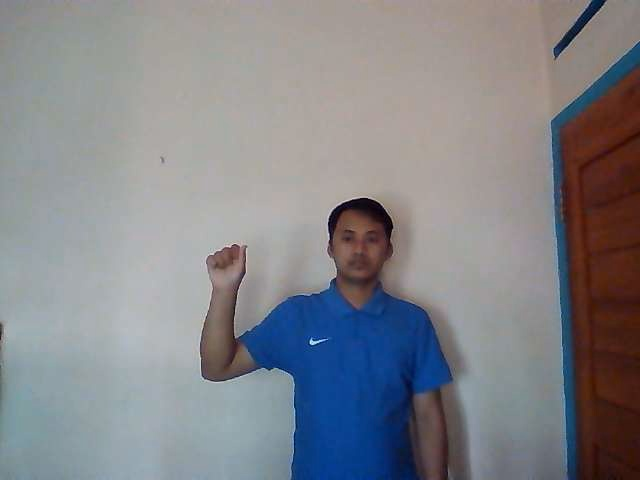A: (205, 243, 249, 290)
